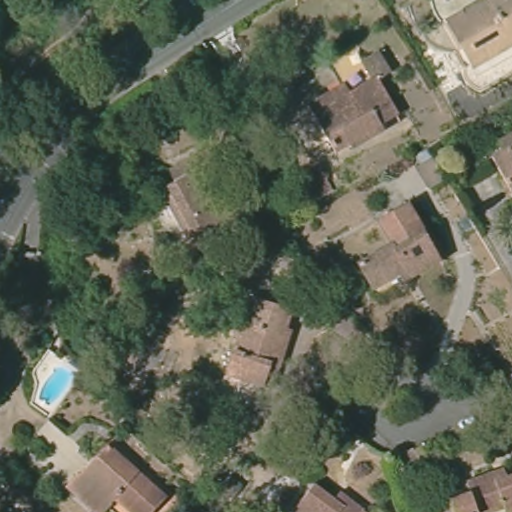pool: (36, 361, 76, 414)
